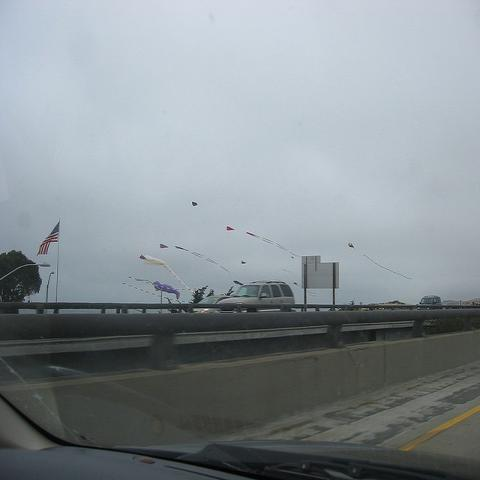car: (212, 281, 302, 314), (192, 295, 230, 314), (417, 295, 443, 310)
truck: (215, 279, 295, 313)
